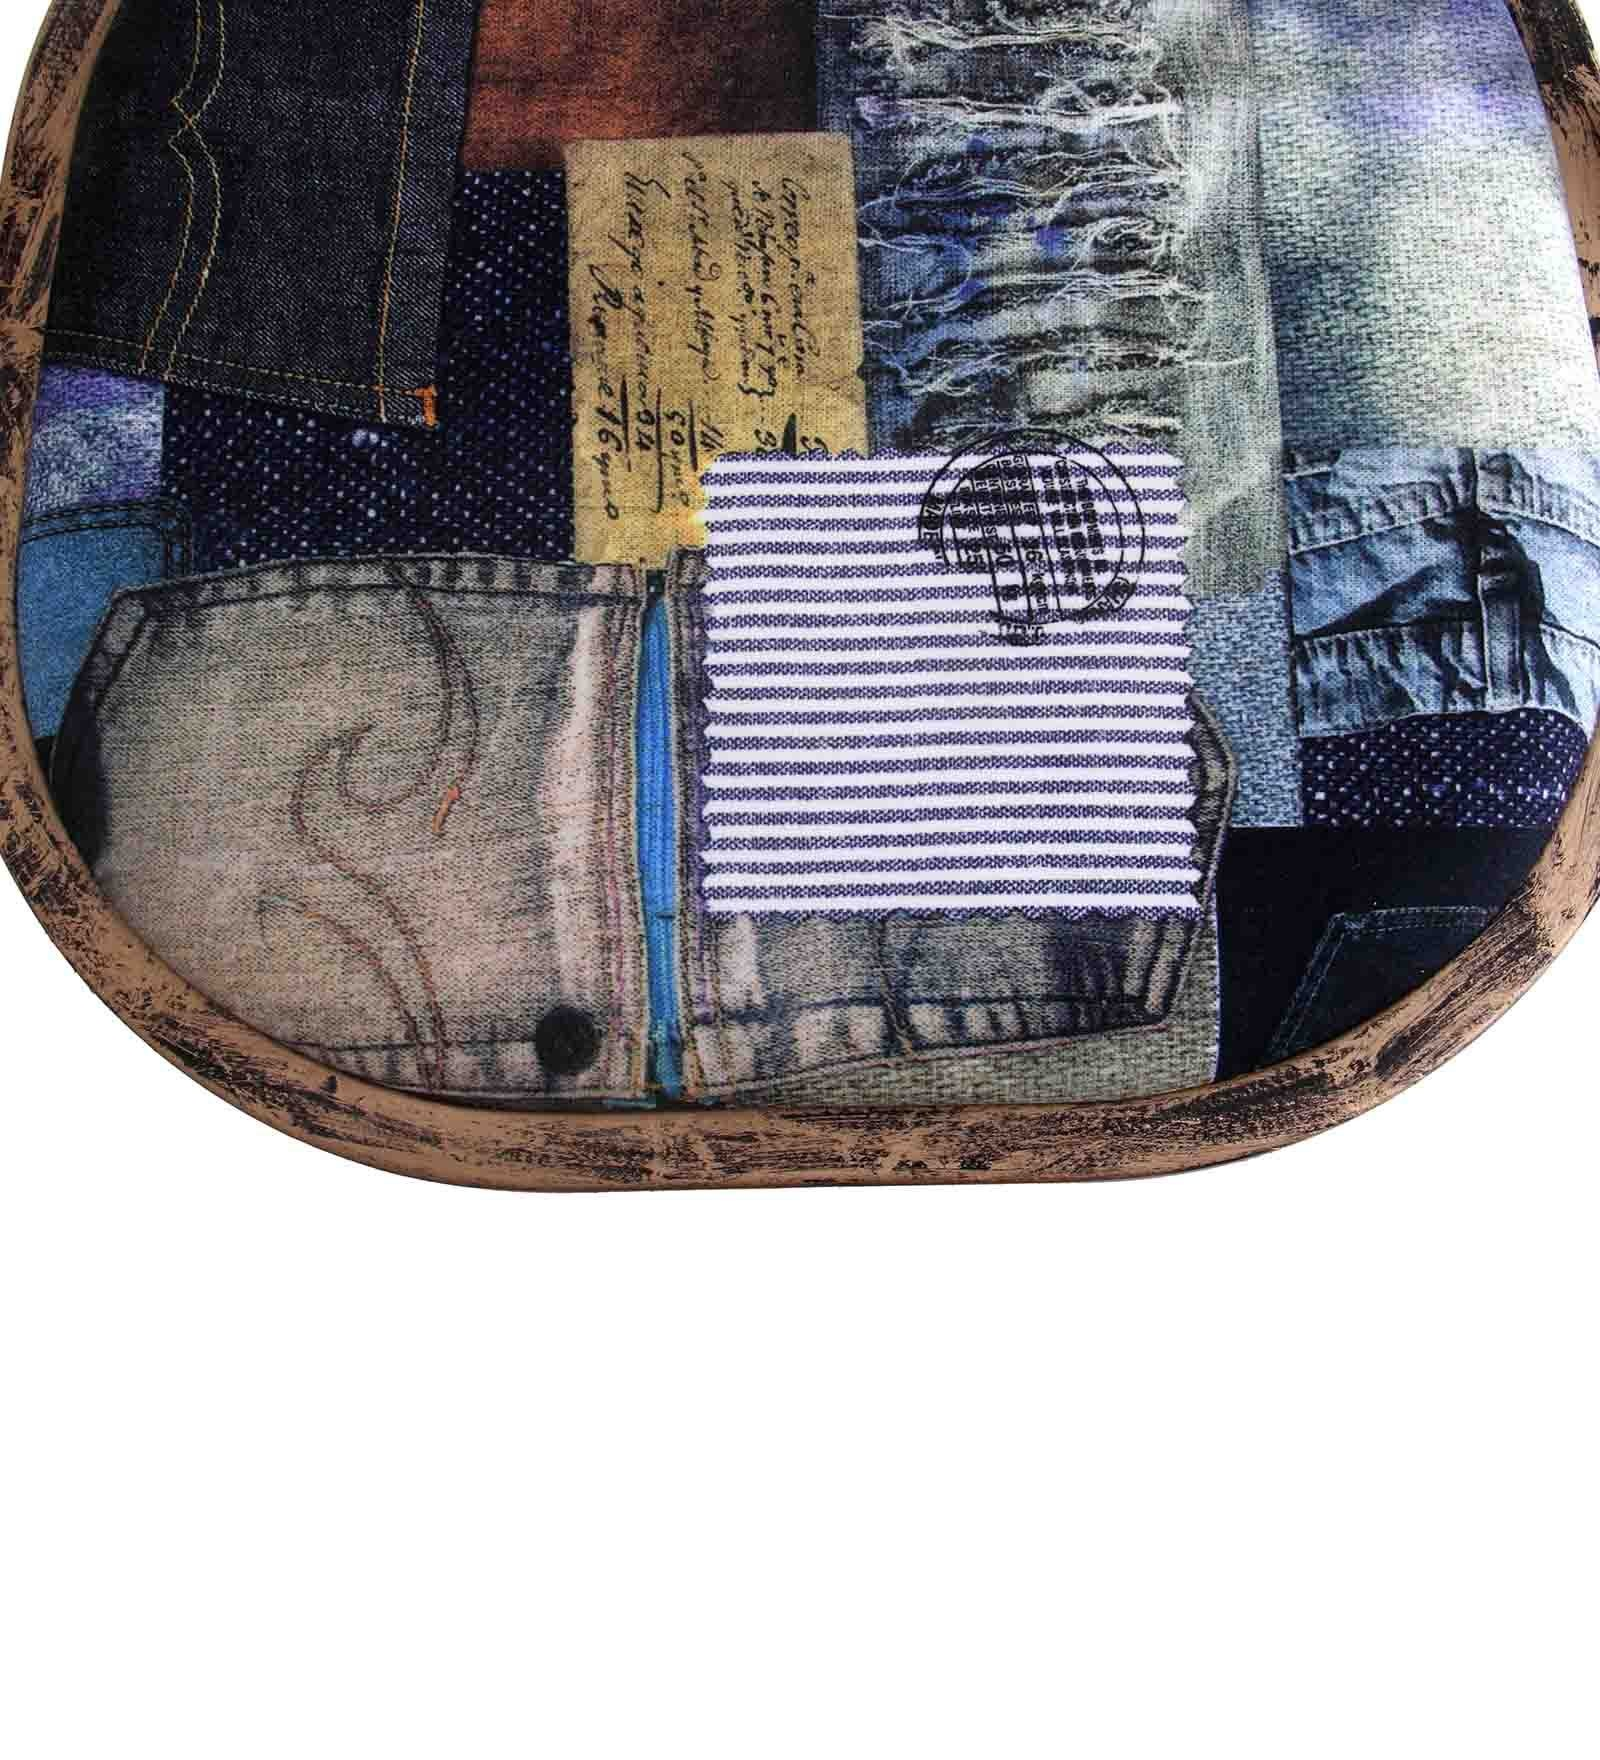Stanrock Metal Chair (Set of 2) in Antique Bronze by Bohemiana: (213, 228, 1385, 964)
